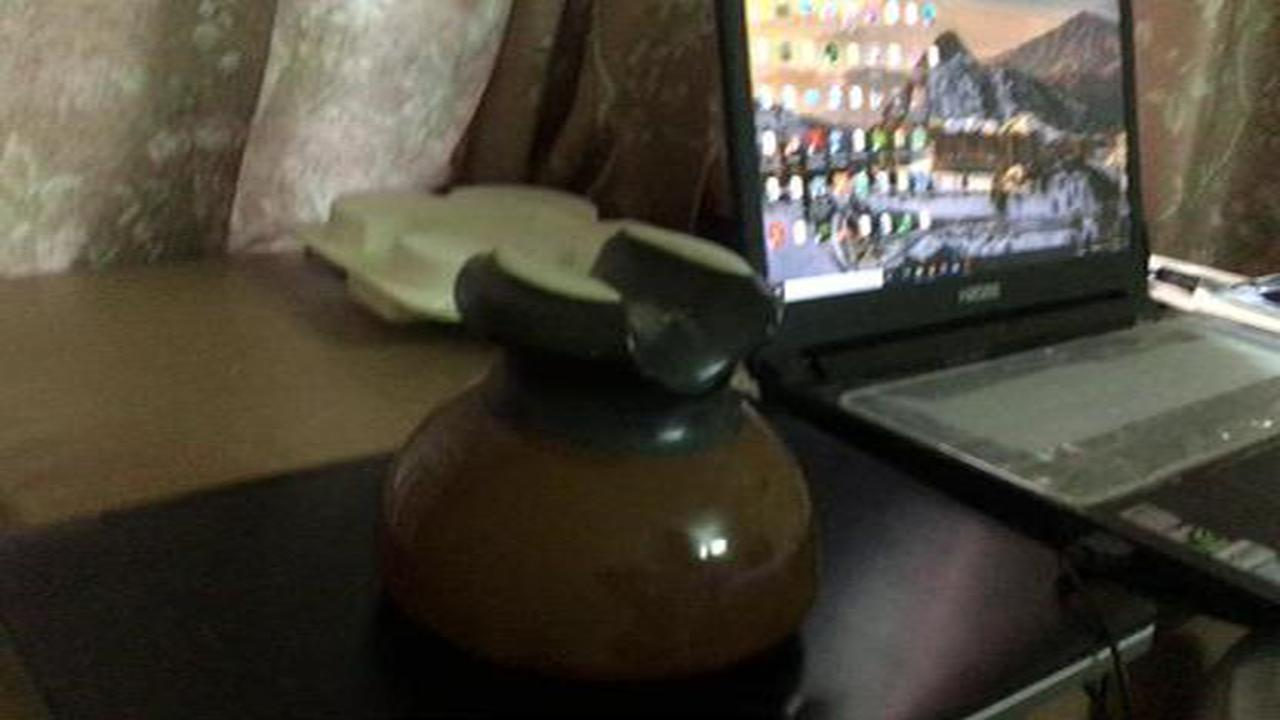insulator_pin: (367, 212, 841, 689)
